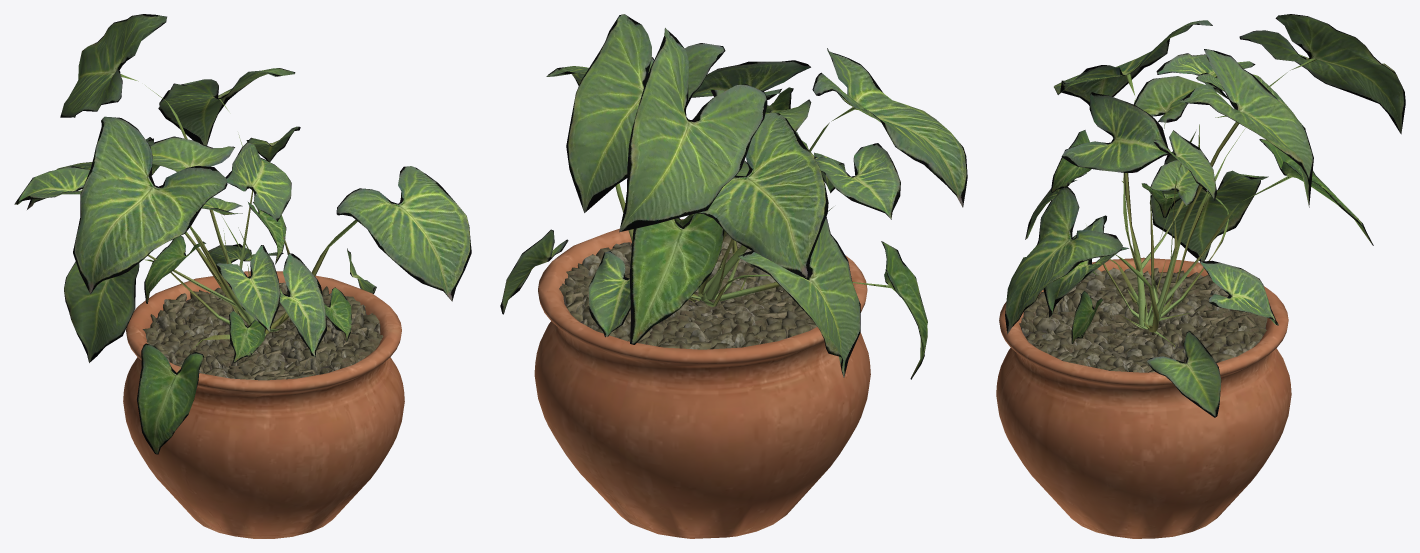
The model's file is potted_plant_02.glb.
3 renders of one model, left to right at view 1: azimuth 30°, elevation 25°; view 2: azimuth 150°, elevation 25°; view 3: azimuth 270°, elevation 25°, orthographic. The views are drawn at different scales.
Visible parts, largest first — view 1: potted_plant_02_leaves, potted_plant_02_pot; view 2: potted_plant_02_leaves, potted_plant_02_pot; view 3: potted_plant_02_pot, potted_plant_02_leaves.
Boxes of the visible parts, x1,y1,x2,y2 form: potted_plant_02_leaves: (14, 14, 471, 454); potted_plant_02_pot: (123, 271, 404, 538); potted_plant_02_leaves: (500, 14, 967, 379); potted_plant_02_pot: (534, 219, 870, 538); potted_plant_02_pot: (996, 257, 1291, 538); potted_plant_02_leaves: (1005, 14, 1405, 417).
Size of the model in its own units: 0.7009 by 0.8401 by 0.6574.
2 materials, 2 textured.
